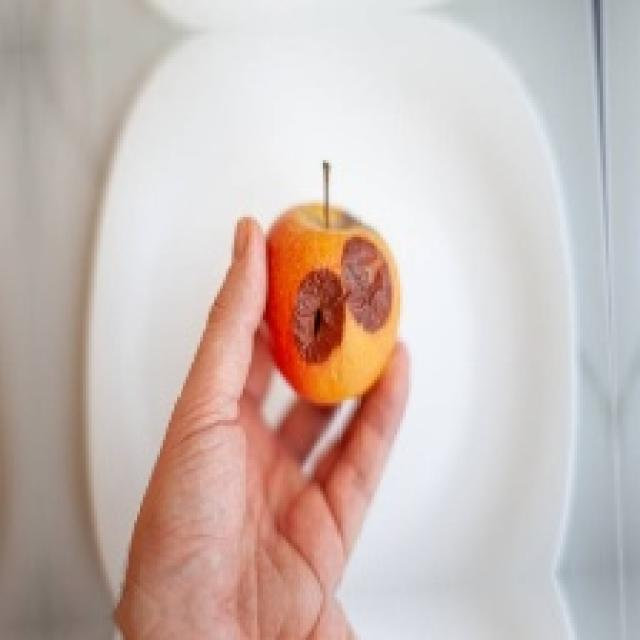rotten_apple: (274, 205, 397, 402)
